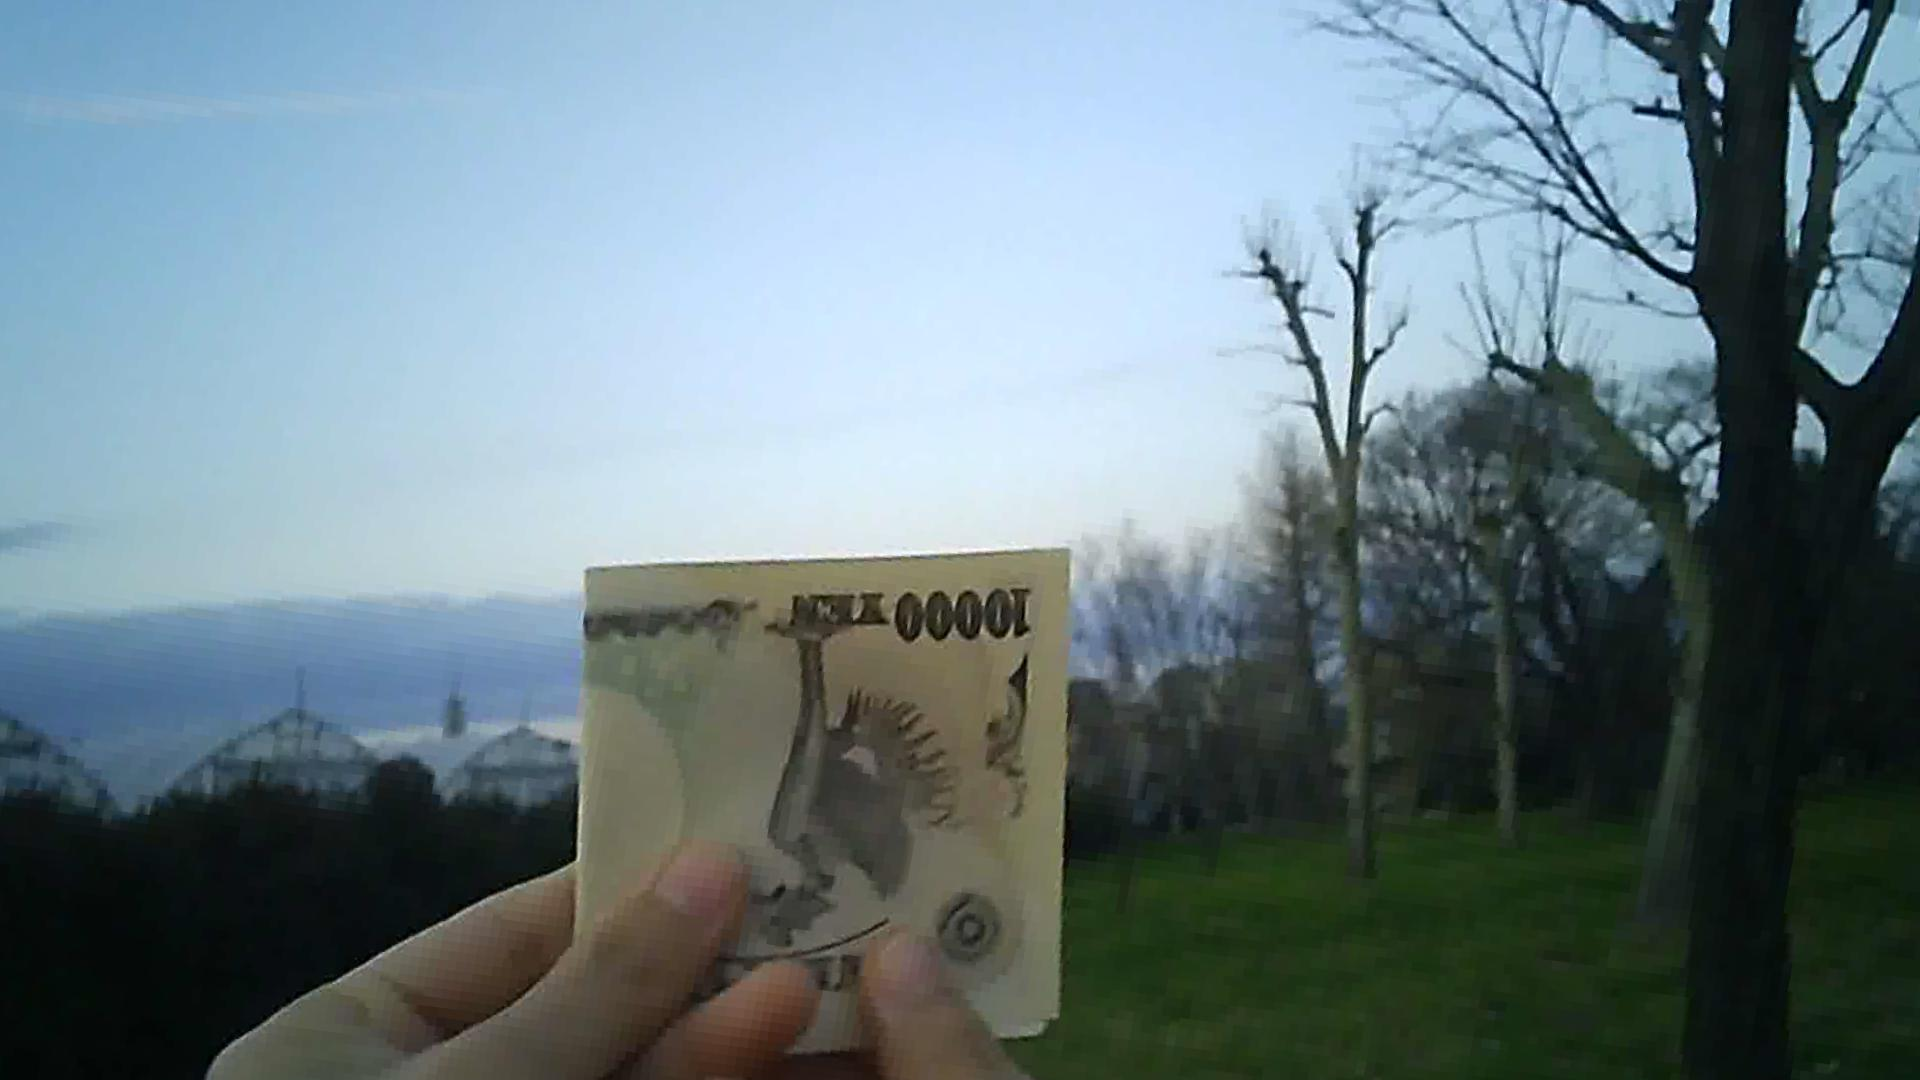10,000 Yen: (568, 531, 1068, 1047)
